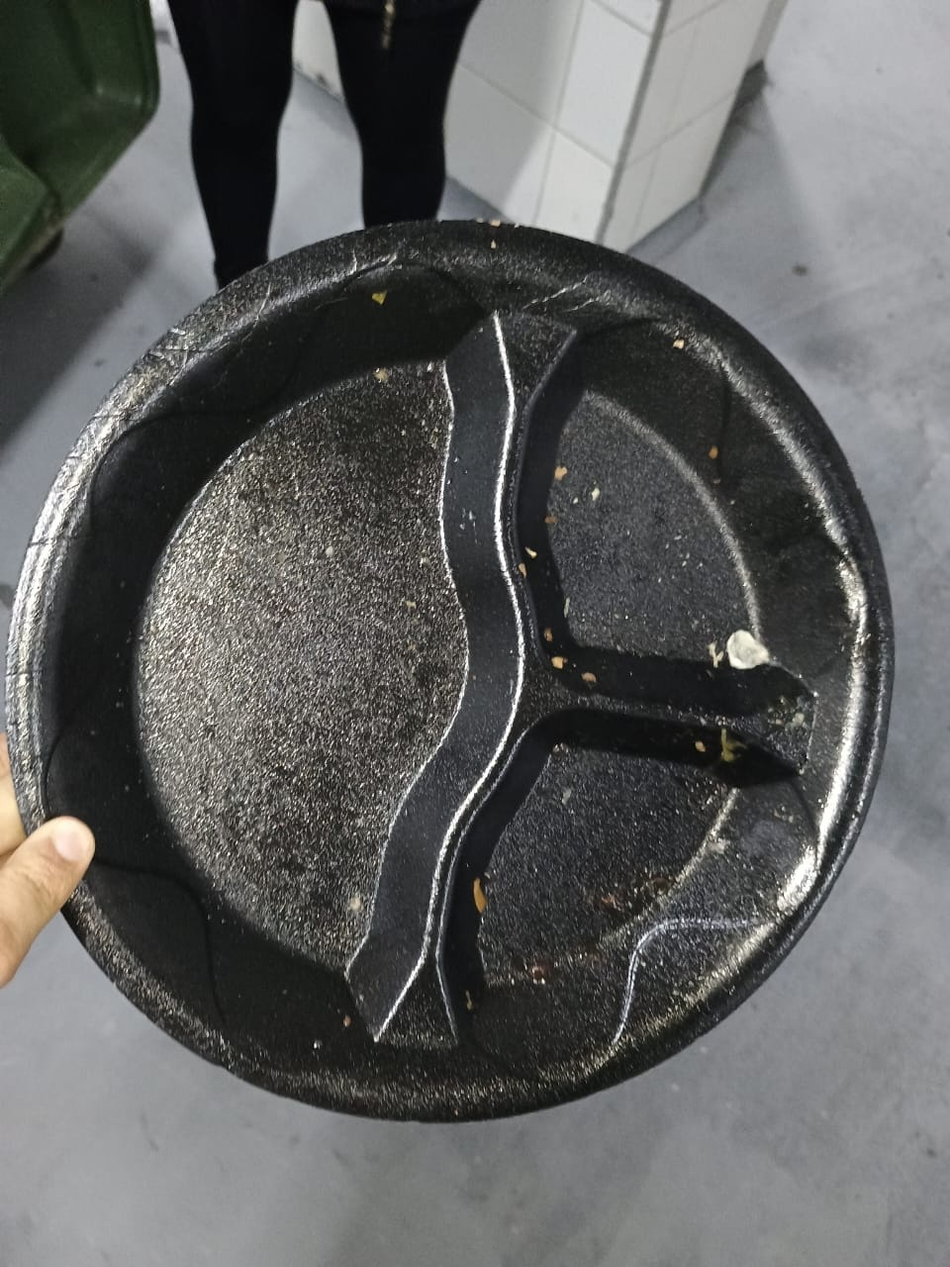Ordinario: (2, 217, 896, 1120)
